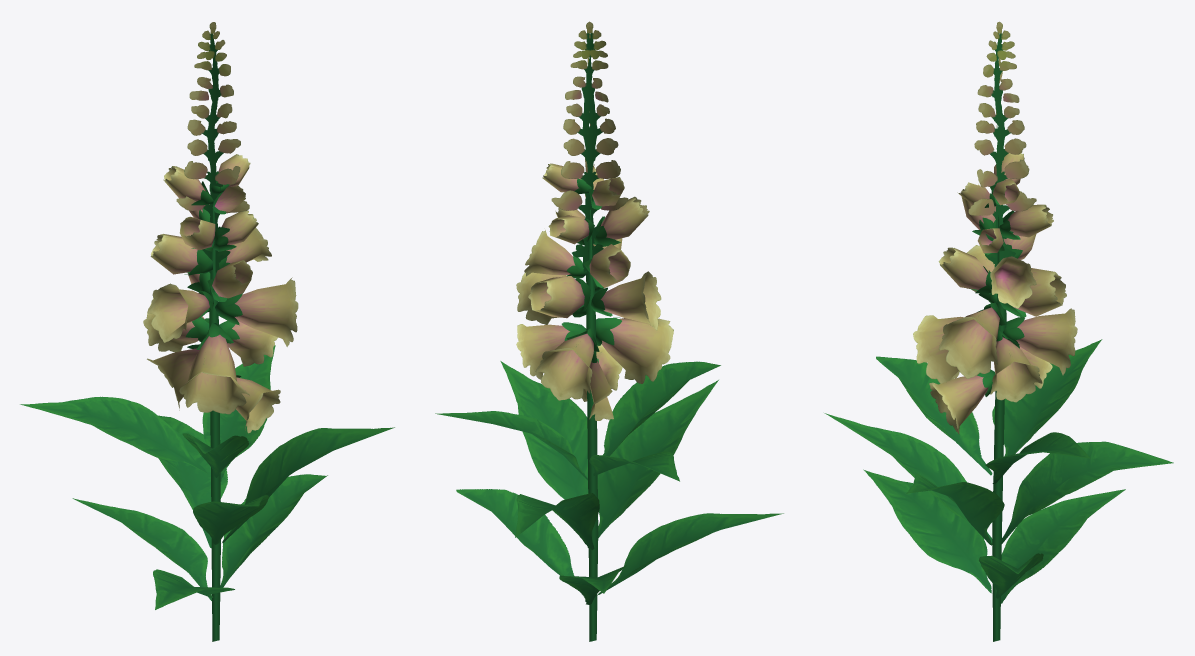
File: MSH_FWOF_Flower_Large_C_04.fbx
3 renders of one model, left to right at view 1: azimuth 30°, elevation 25°; view 2: azimuth 150°, elevation 25°; view 3: azimuth 270°, elevation 25°, orthographic.
Visible parts, largest first — view 1: MSH_FWOF_Flower_Large_C_04; view 2: MSH_FWOF_Flower_Large_C_04; view 3: MSH_FWOF_Flower_Large_C_04.
Part boxes in pixels (x1,y1,x2,y2): MSH_FWOF_Flower_Large_C_04: [20, 22, 394, 641]; MSH_FWOF_Flower_Large_C_04: [435, 21, 783, 641]; MSH_FWOF_Flower_Large_C_04: [824, 21, 1173, 641].
Bounding box in the file's own units: 0.526 × 1.1 × 0.5755.
